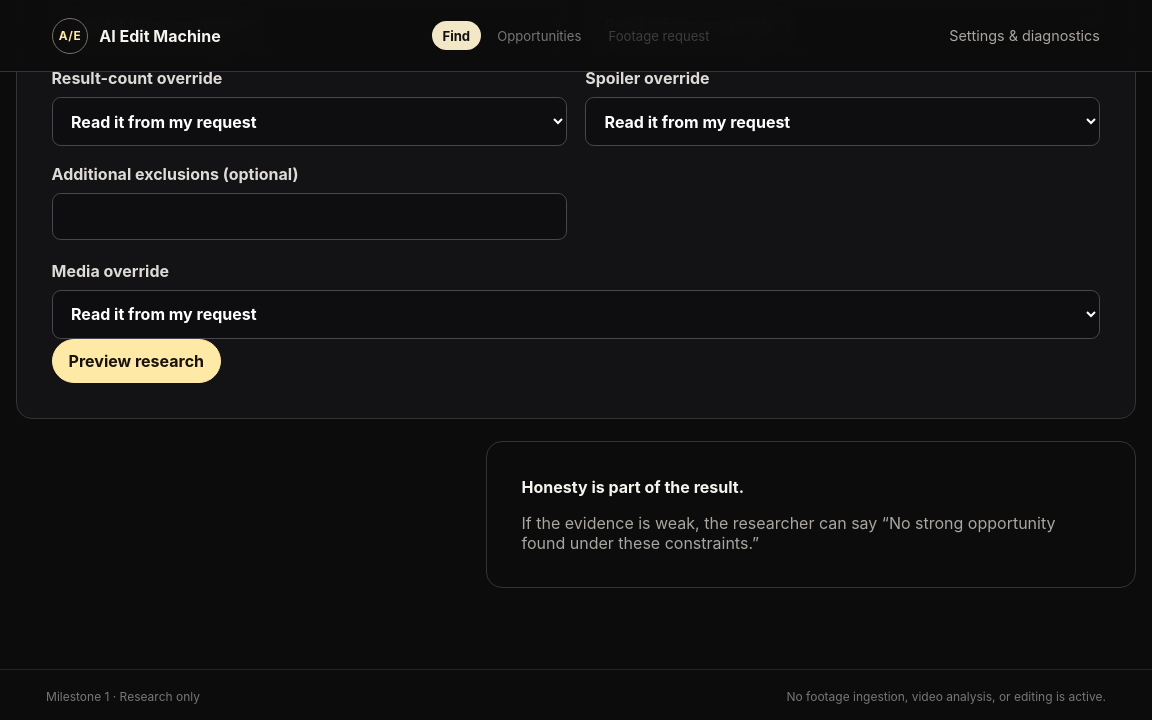
Test case: trusted command errors › shows an actionable stale-preflight error returned as a Tauri string
(page scrolled)
Click the button "Preview research" at x=136, y=361, box [52,339,221,383]
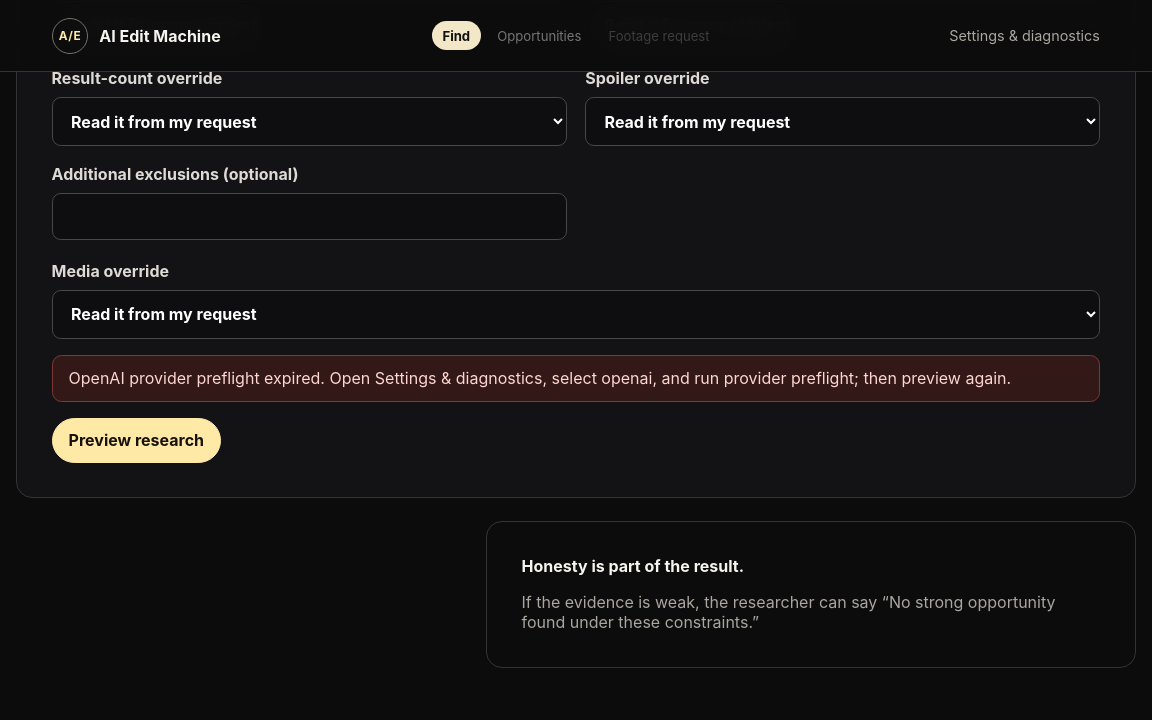
Now the message shows "OpenAI provider preflight expired. Open Settings & diagnostics, select openai, and run provider preflight; then preview again.", box [68,368,1011,388]
